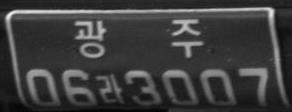0: (199, 67, 237, 107), (24, 68, 61, 106), (162, 69, 199, 105)
3: (124, 69, 162, 106)
6: (61, 69, 95, 106)
7: (237, 66, 269, 106)
광주_D: (73, 18, 203, 58)
라: (96, 72, 124, 105)
